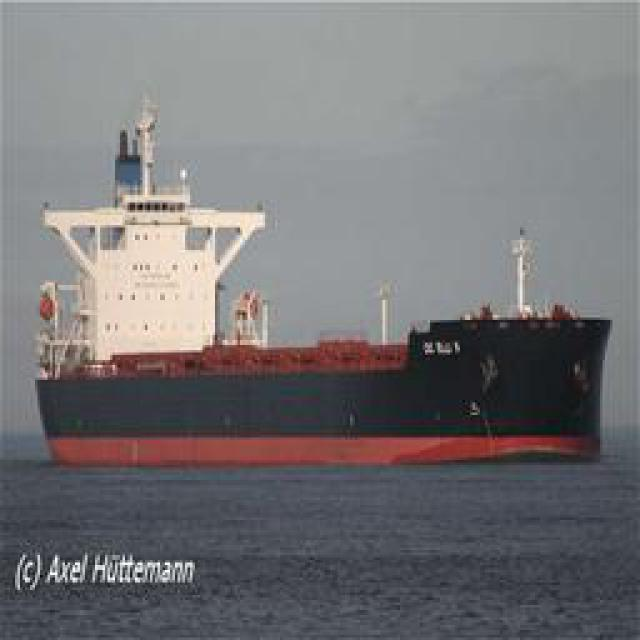Ship: (26, 264, 619, 469)
